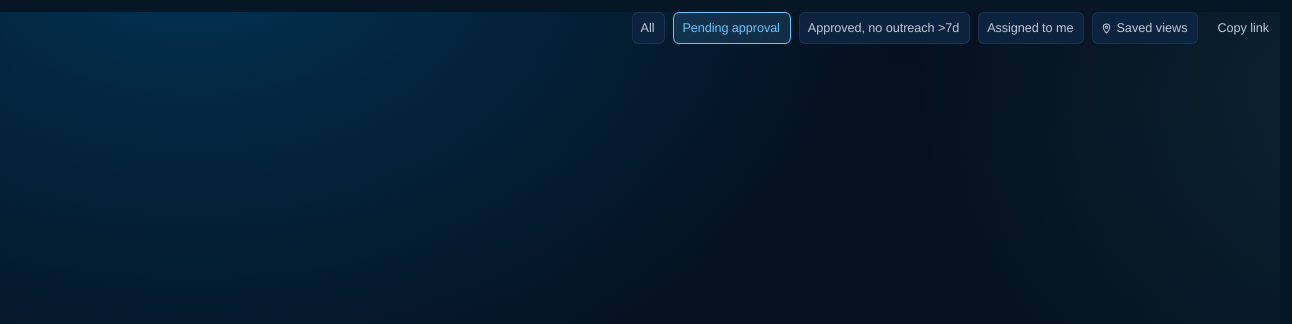
Test: Saved views panel › reads nothing on mount; the first open loads the panel and reads the list once
Click the button "Saved views" at (1145, 28), box [1092,12,1198,44]
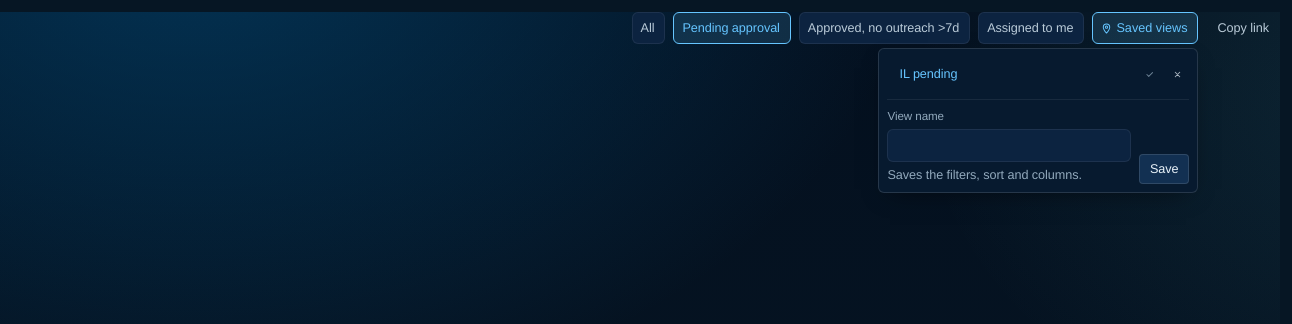
Now the link with class "lead-queue-saved-views__link" reads "IL pending", box [900,66,958,82]
